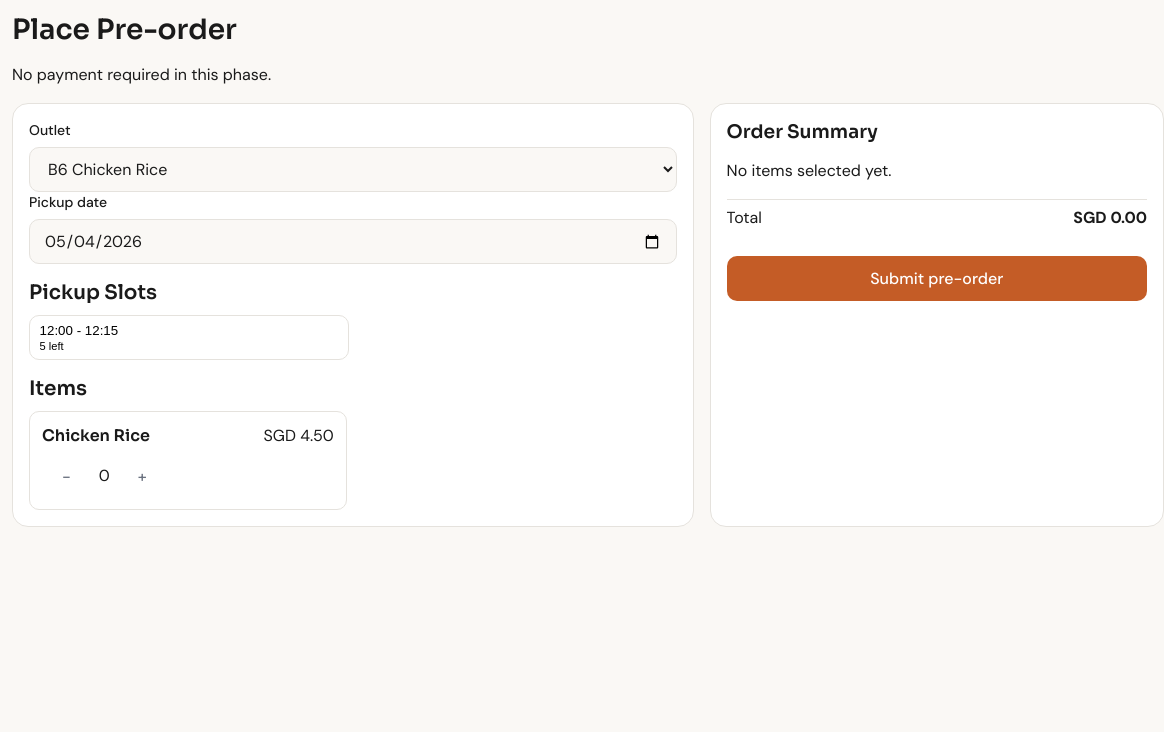
OrderForm › submits a selected item and resets the order
Click the button "12:00 - 12:15 5 left" at [56, 331], box [29,315,349,360]
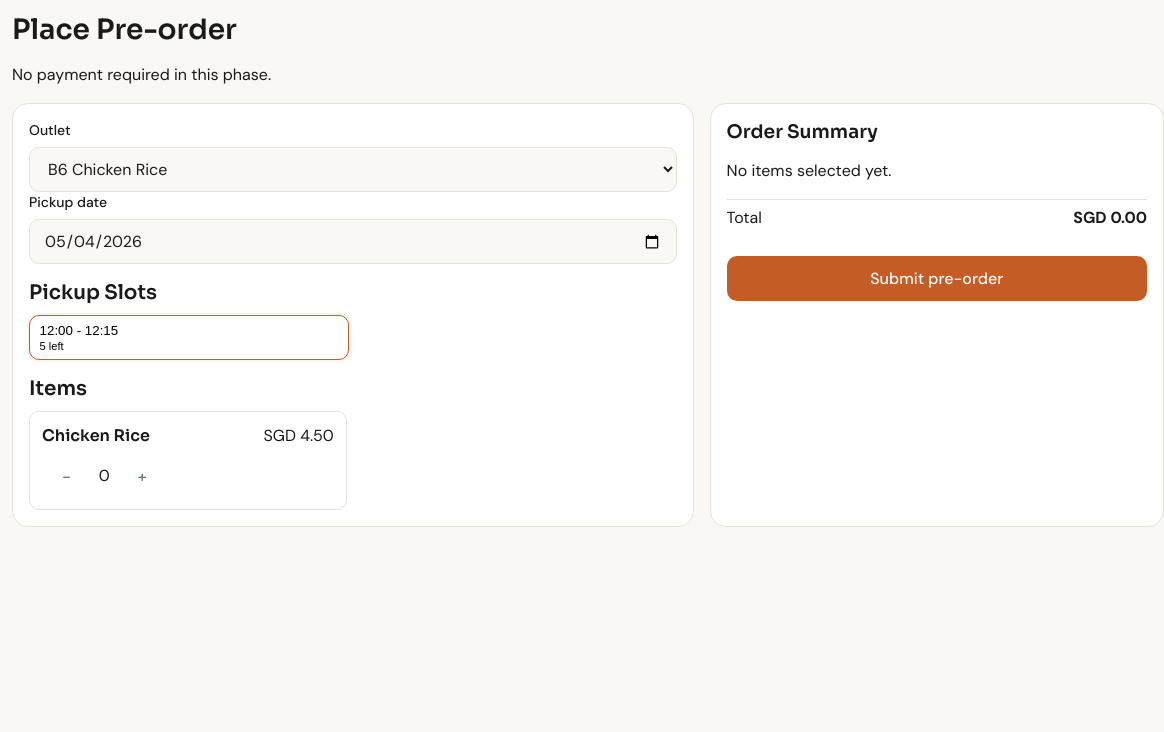
Click the button "+" at [142, 476], box [118,456,167,497]
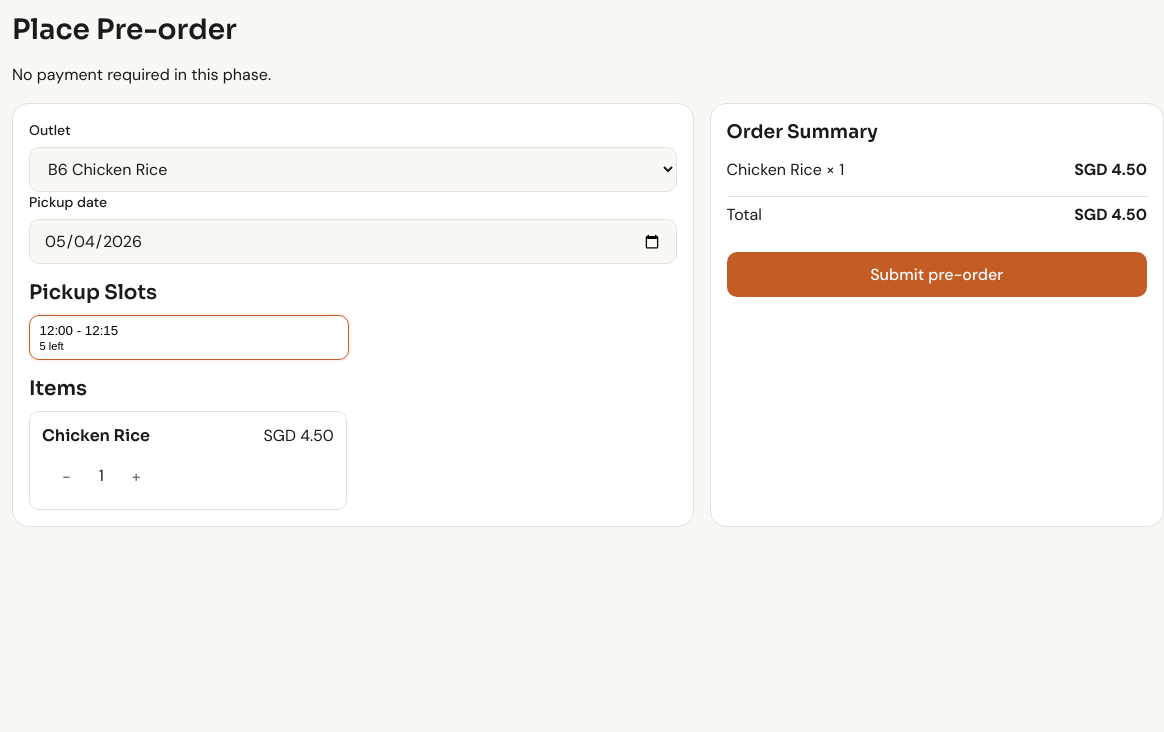
Click the button "Submit pre-order" at [937, 275], box [727,252,1147,297]
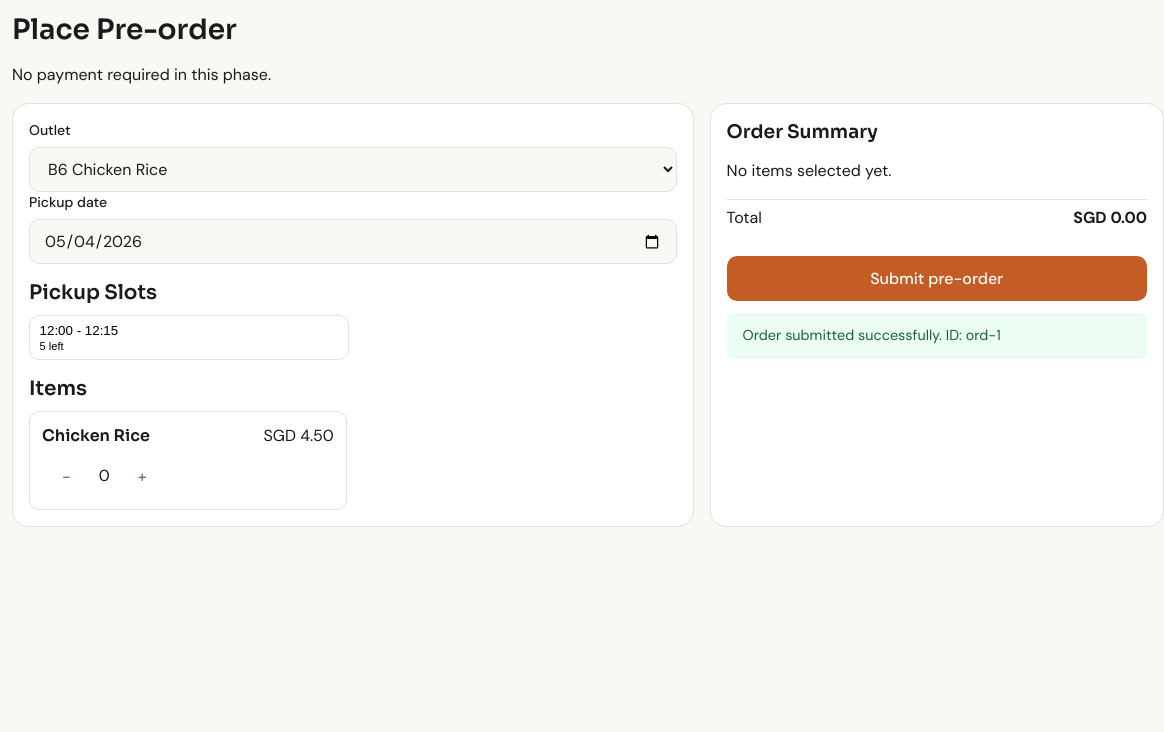
Expected: the text "Order submitted successfully. ID: ord-1" is shown, [727,313,1147,359]
